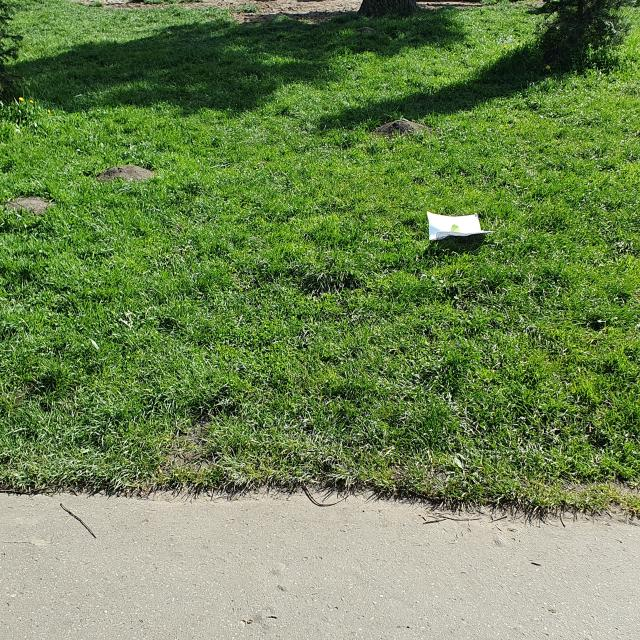green: (451, 224, 460, 232)
